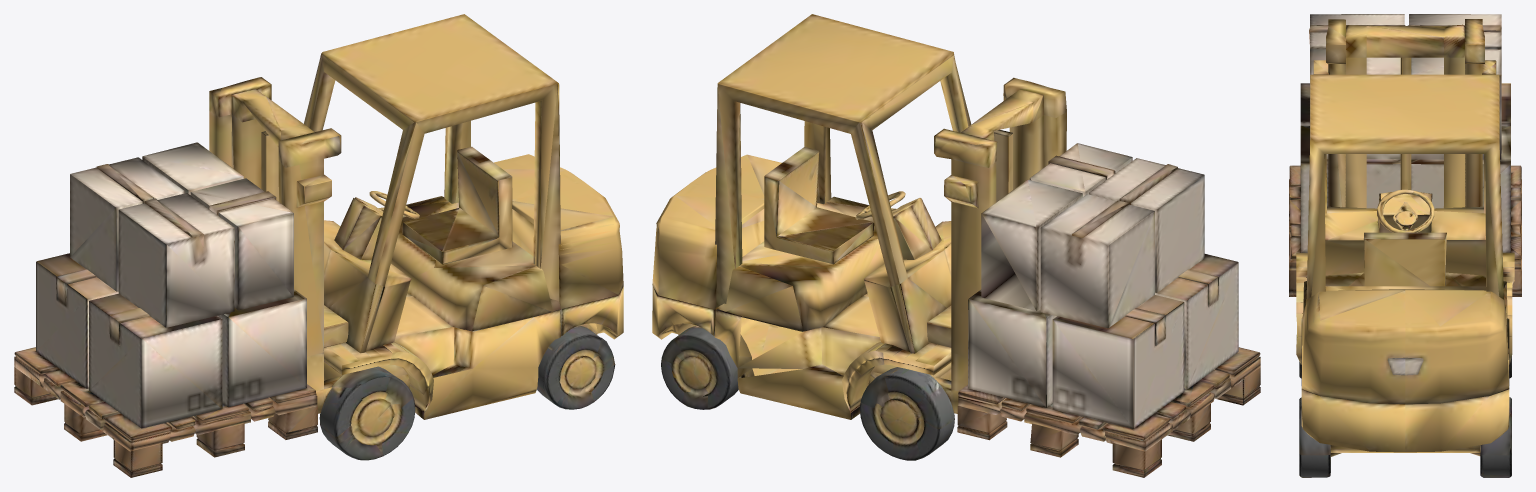
Rendered from forklift.glb.
3 views of the same model, side by side, from view 1: azimuth 30°, elevation 25°; view 2: azimuth 150°, elevation 25°; view 3: azimuth 270°, elevation 25° (orthographic).
Bounding box in the file's own units: 0.9546 × 0.5669 × 0.3668.
1 material, 1 textured.
